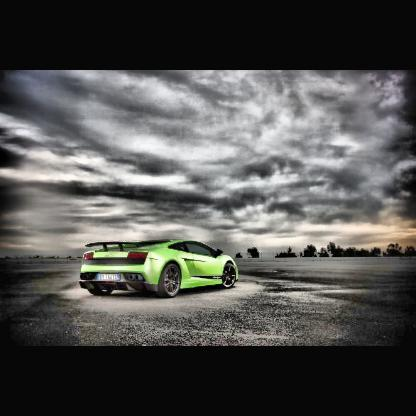Lamborghini Gallardo LP 570-4 Superleggera 2012: (79, 236, 241, 301)
